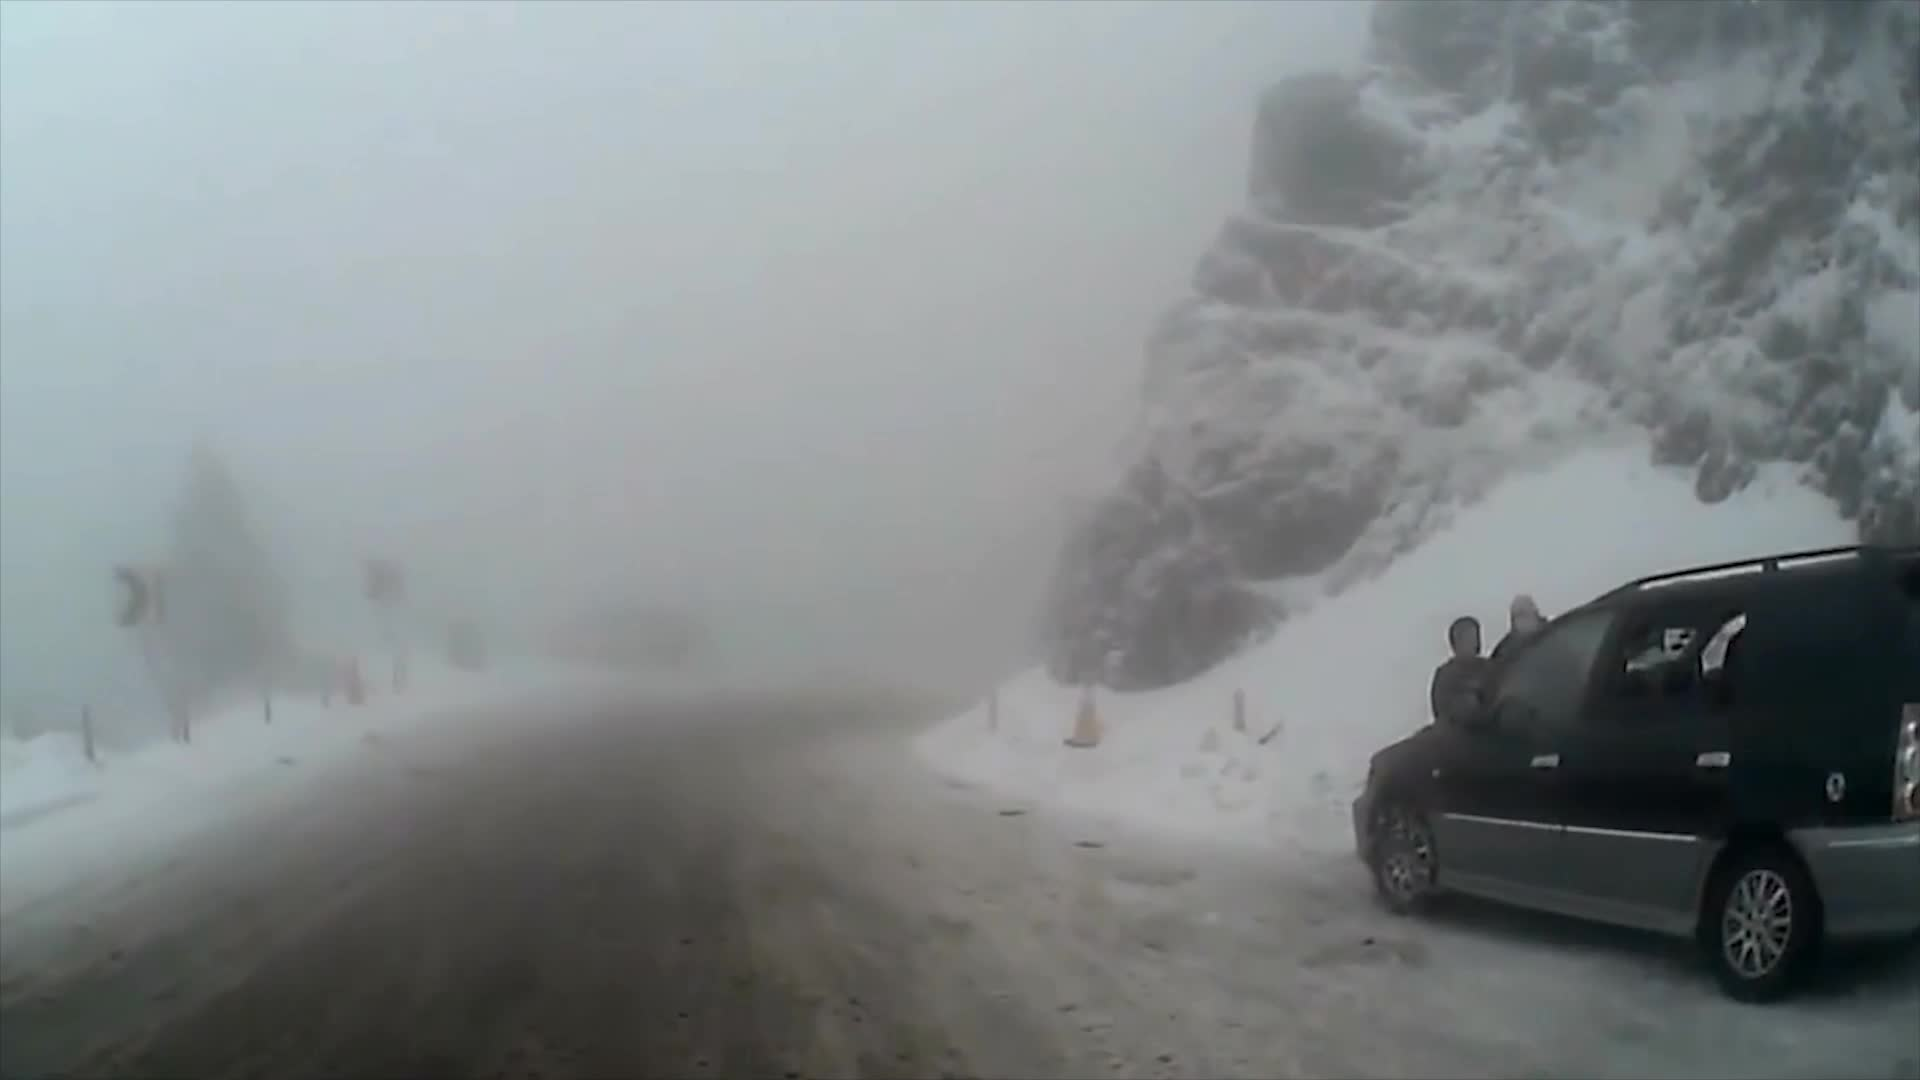pedestrian: (1427, 610, 1503, 875)
vehicle: (1348, 537, 1919, 1005)
